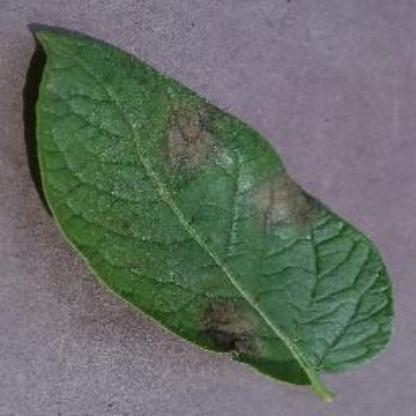Late-Blight: (11, 23, 415, 416)
